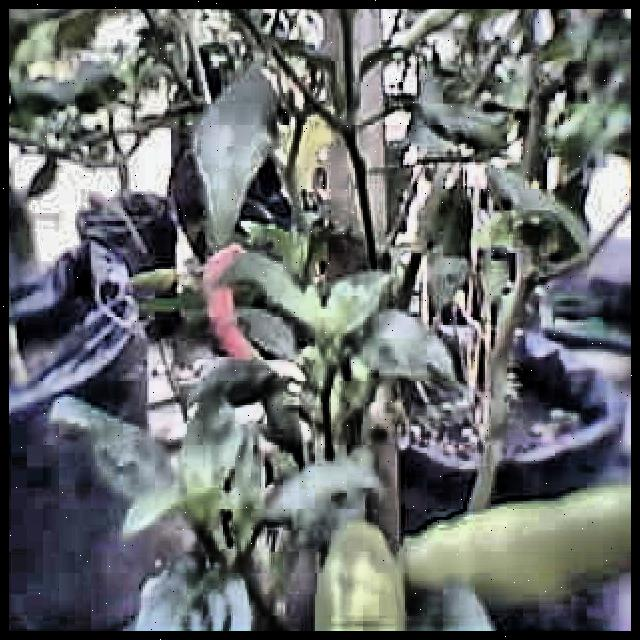Cabai: (197, 238, 260, 374)
